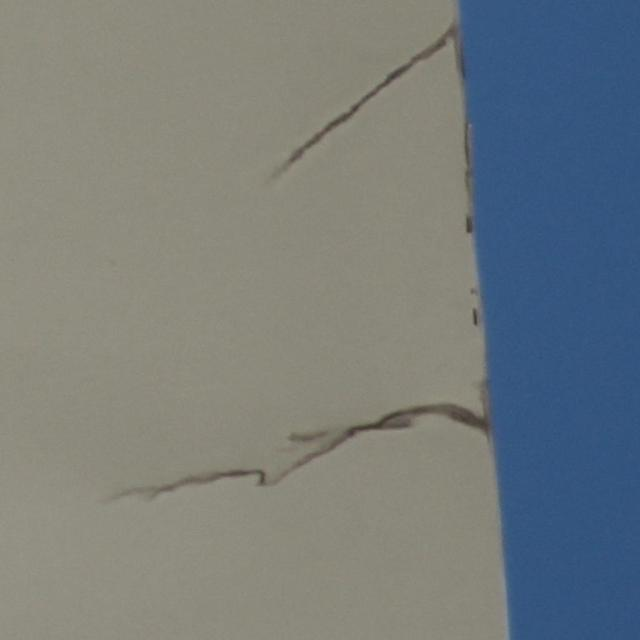crack: (106, 403, 483, 506), (285, 32, 458, 166)
